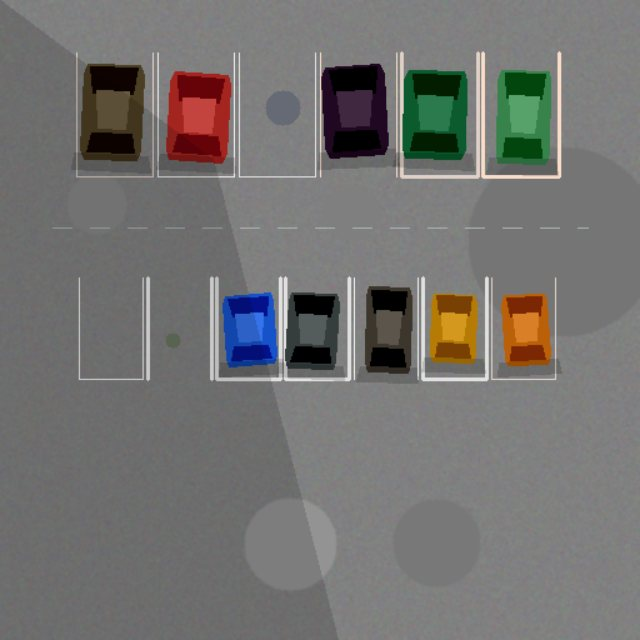space-empty: (239, 53, 315, 176), (79, 277, 143, 379), (147, 277, 211, 379)
space-occupied: (76, 53, 153, 176), (157, 53, 234, 176), (320, 53, 396, 176), (401, 53, 477, 176), (483, 53, 559, 176), (216, 277, 280, 379), (285, 277, 349, 379), (491, 277, 555, 379), (354, 277, 417, 379), (423, 277, 486, 379)
